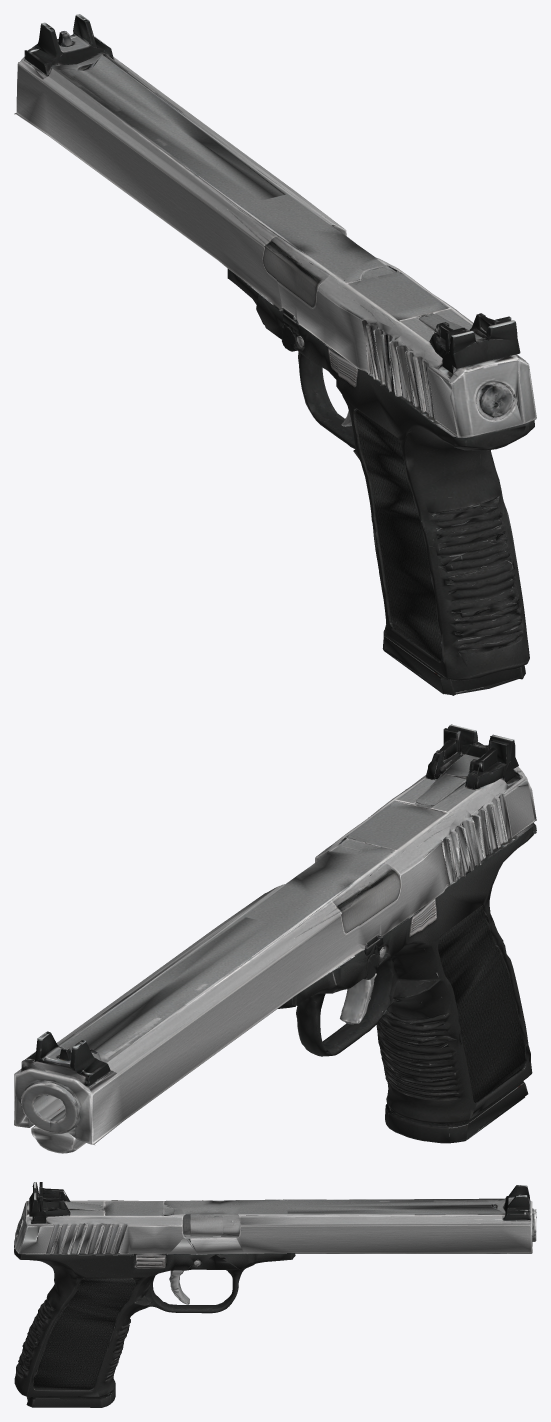
The model's file is weapon-longslide.glb.
3 views of the same model, one above another, from view 1: azimuth 30°, elevation 25°; view 2: azimuth 150°, elevation 25°; view 3: azimuth 270°, elevation 25° (orthographic). The views are drawn at different scales.
Visible parts, largest first — view 1: longslide; view 2: longslide; view 3: longslide.
Boxes of the visible parts, left/top/right/bottom form: longslide: left=14, top=14, right=536, bottom=695; longslide: left=14, top=724, right=536, bottom=1153; longslide: left=14, top=1182, right=536, bottom=1407.
Bounding box in the file's own units: 0.0315 × 0.1178 × 0.27.
Materials: 1 (1 with a texture image).
